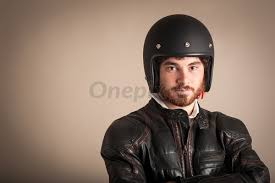helmet: (135, 10, 220, 104)
